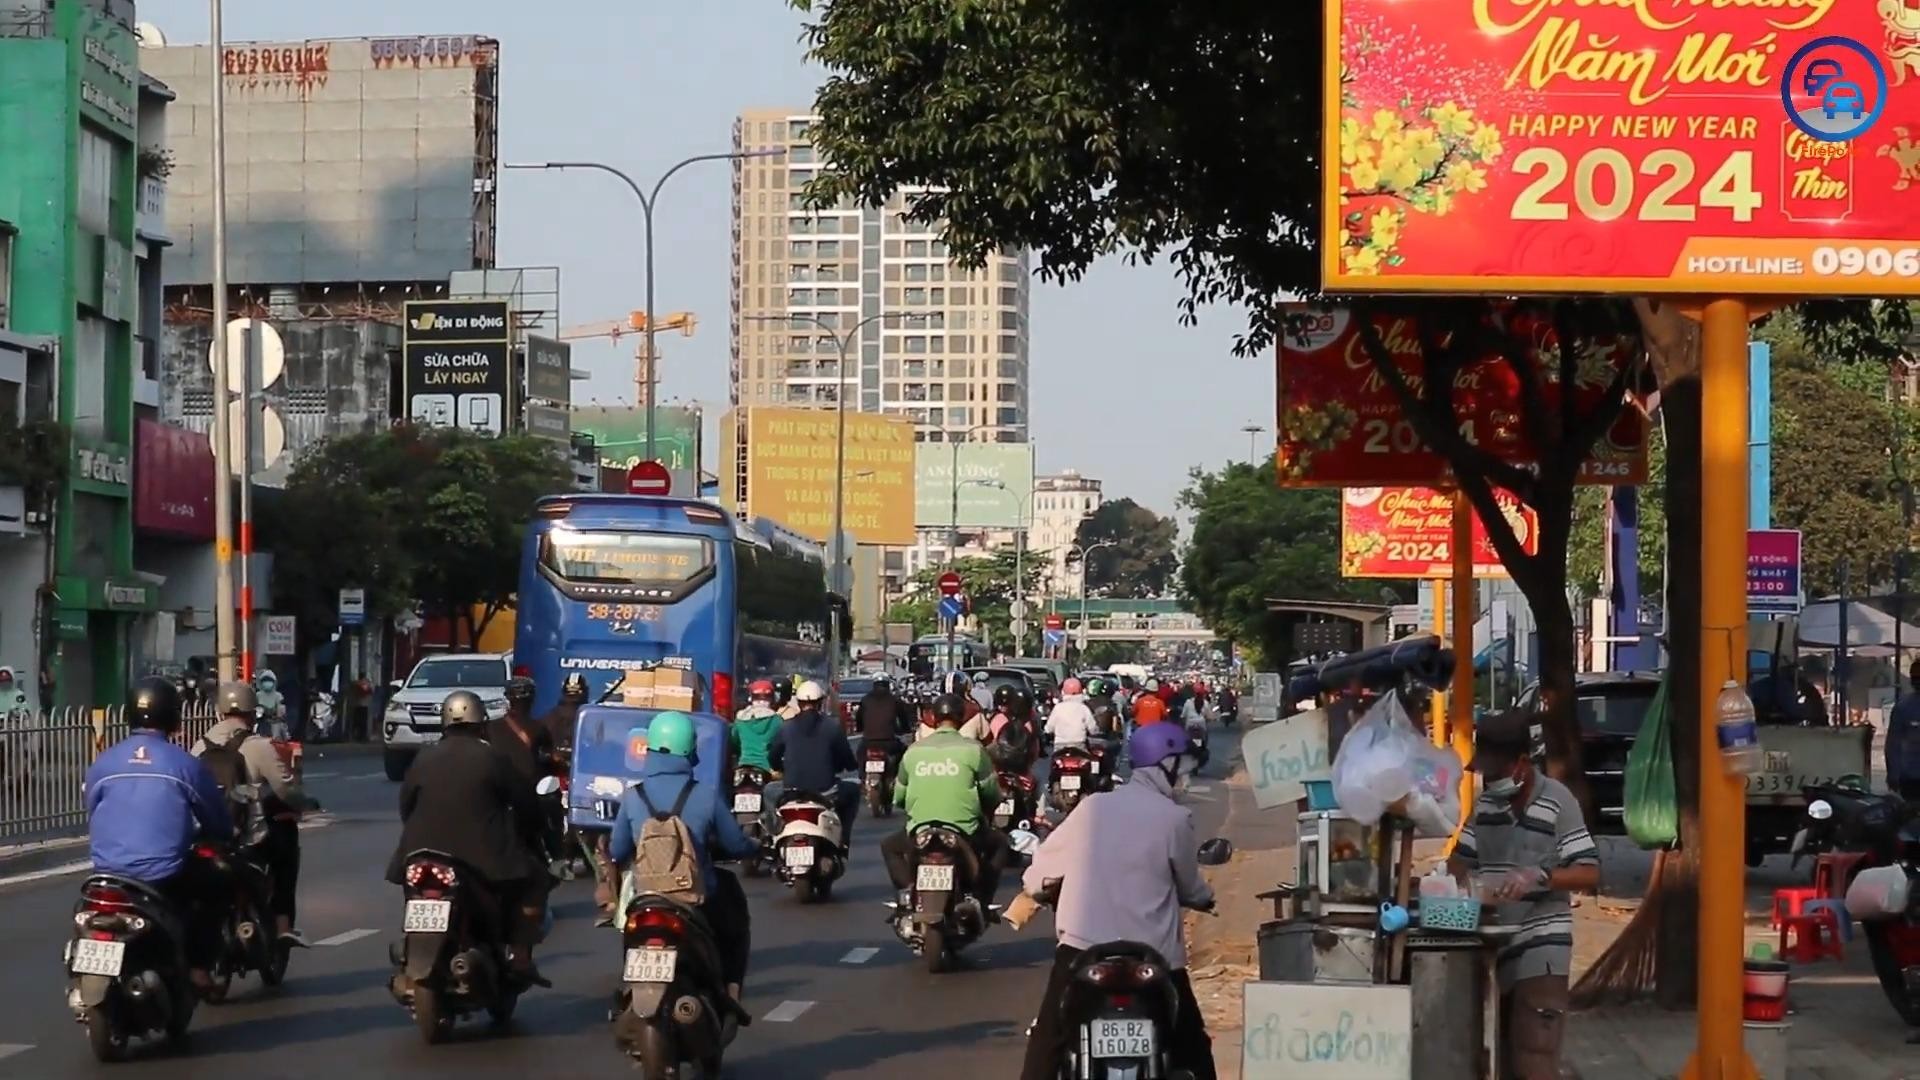bien_so: (1089, 1016, 1154, 1060), (71, 937, 127, 978), (621, 948, 678, 984), (402, 897, 453, 933), (915, 863, 955, 892), (785, 845, 815, 867), (733, 792, 763, 813)
